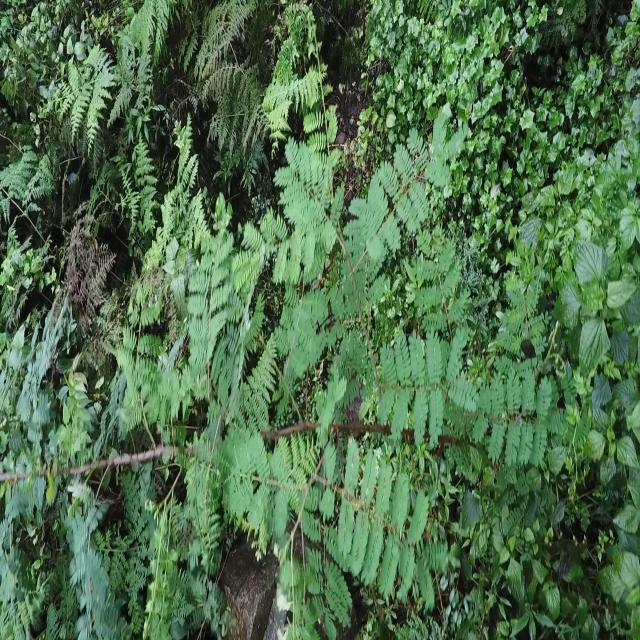Mysore-Thorn-Weed: (8, 119, 567, 636)
